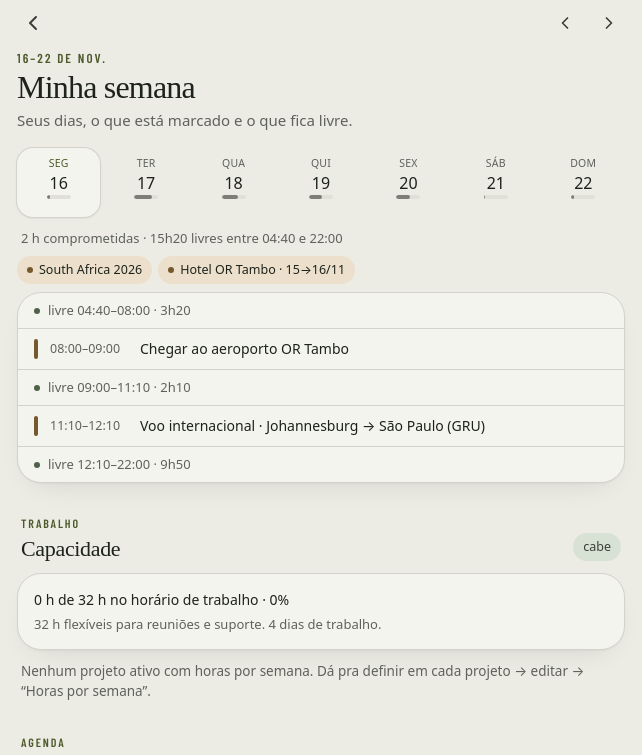
Test: Minha semana › 7-day strip, the day timeline with free gaps, and no capacity cards until a project has horas por semana
Check: the heading "Minha semana" is shown, box [17,69,195,105]
Check: the element named "Dia 2026-11-16" shows "livres entre", box [188,229,262,247]
Click the tab "QUI 19".
click(321, 183)  # box [279,148,363,217]
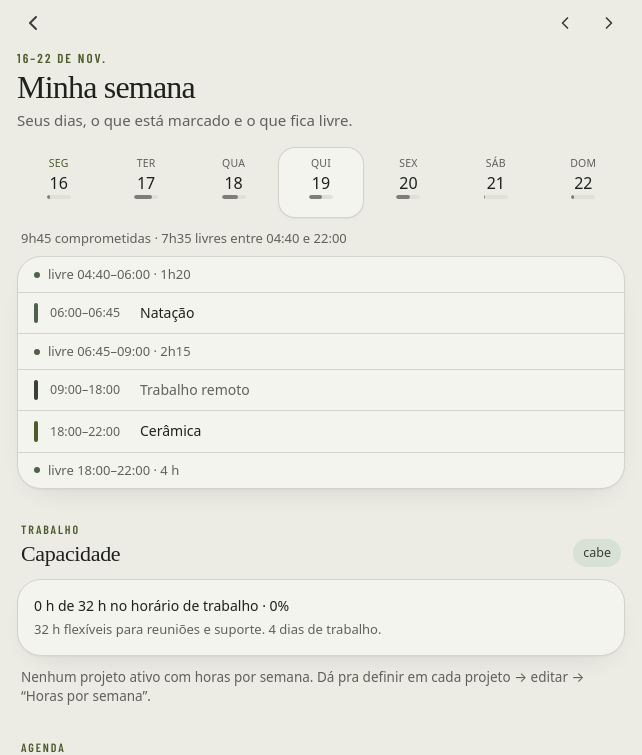
Check: the element named "Dia 2026-11-19" is shown, box [17,229,625,489]
